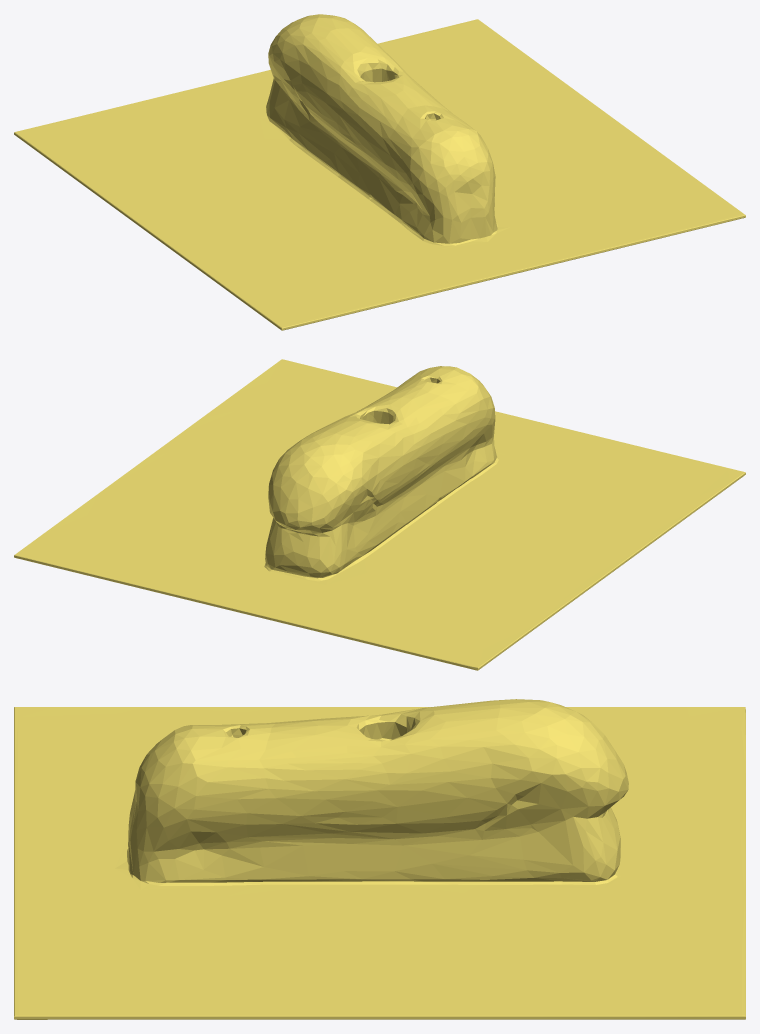
Rendered from yellow-pinch.glb.
The picture shows the model from 3 angles, top to bottom: view 1: azimuth 30°, elevation 25°; view 2: azimuth 150°, elevation 25°; view 3: azimuth 270°, elevation 25°; orthographic projection. The views are drawn at different scales.
Visible parts, largest first — view 1: yellow-pinch_dec.ply; view 2: yellow-pinch_dec.ply; view 3: yellow-pinch_dec.ply.
Part boxes in pixels (x1,y1,x2,y2): yellow-pinch_dec.ply: [14, 14, 745, 330]; yellow-pinch_dec.ply: [14, 359, 745, 670]; yellow-pinch_dec.ply: [14, 699, 745, 1019].
Bounding box in the file's own units: 0.4 × 0.0949 × 0.3998.
